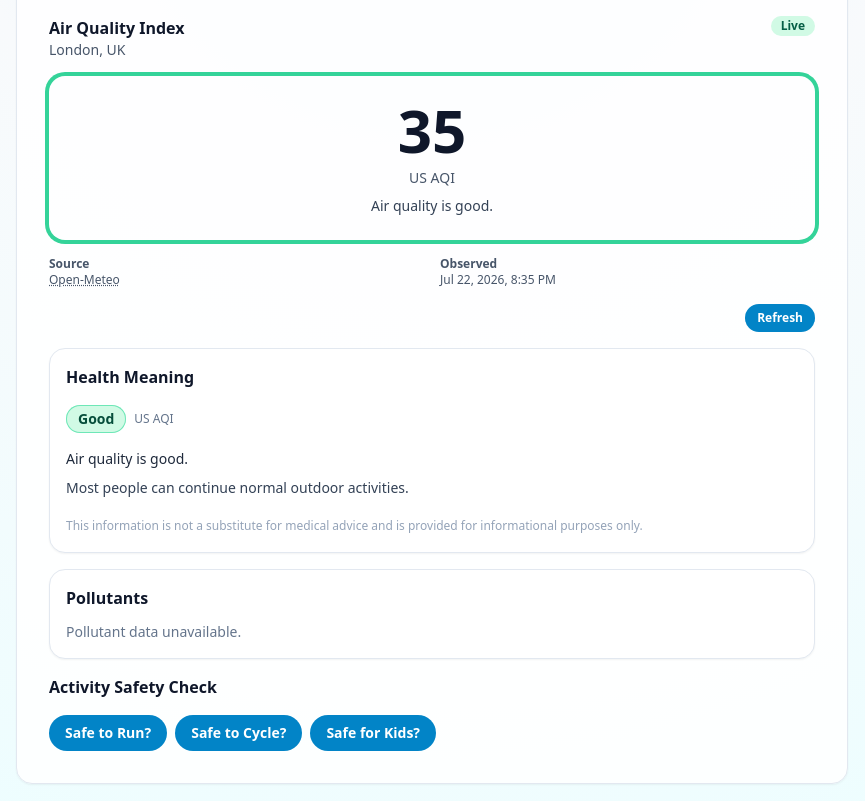
Test case: Activity Safety Check – Run/Cycle golden path › AQI 35: tapping Safe to Run? shows Go ahead with a plain-language reason
This screenshot has width=865, height=801.
(page scrolled)
What coordinates should you click on to do the following:
click the button "Safe to Run?"
I would click on:
 (108, 733)
Its box is [49,715,167,751].
(page scrolled)
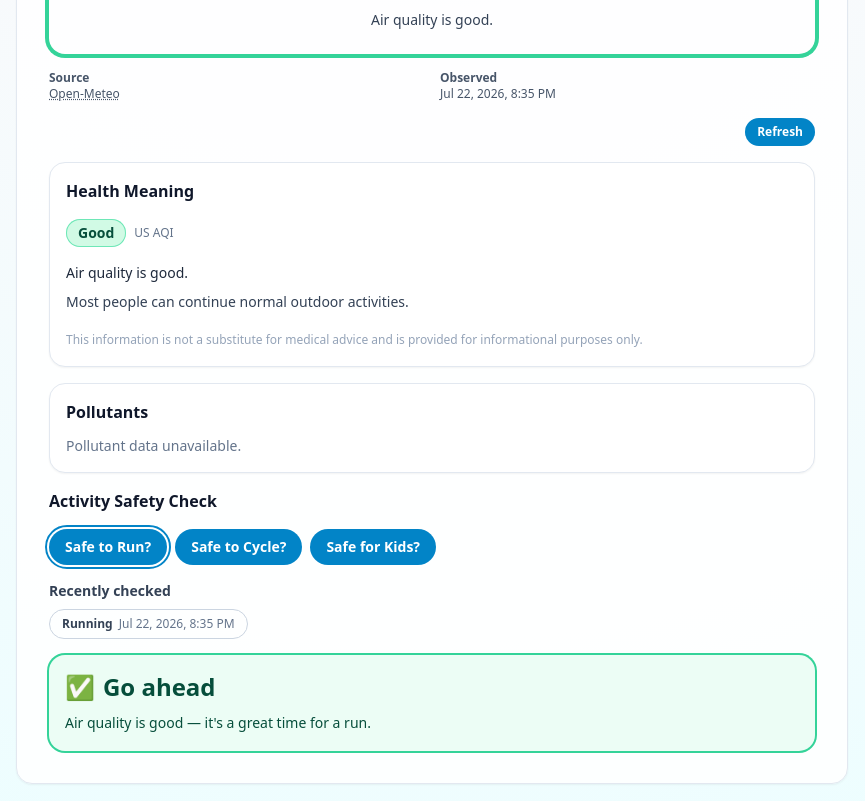
Check: the text "Go ahead" is shown, box [103,671,216,703]
Check: the text "Air quality is good — it's a great time for a run." is shown, box [65,713,371,732]
